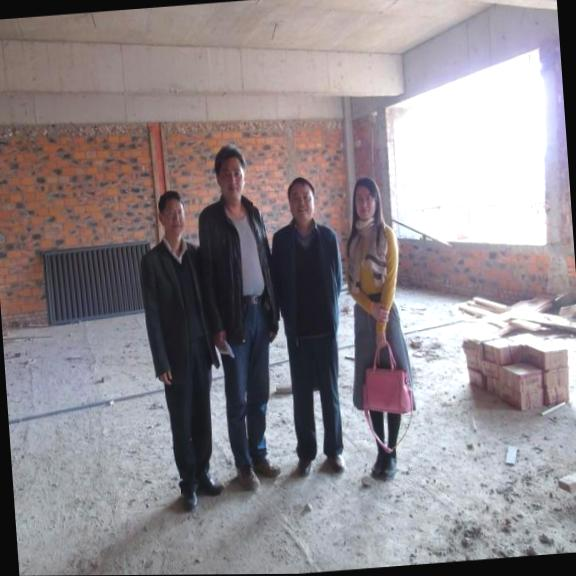no_safety_vest: (194, 194, 280, 346), (136, 236, 214, 376), (269, 219, 347, 341), (340, 218, 405, 311)
